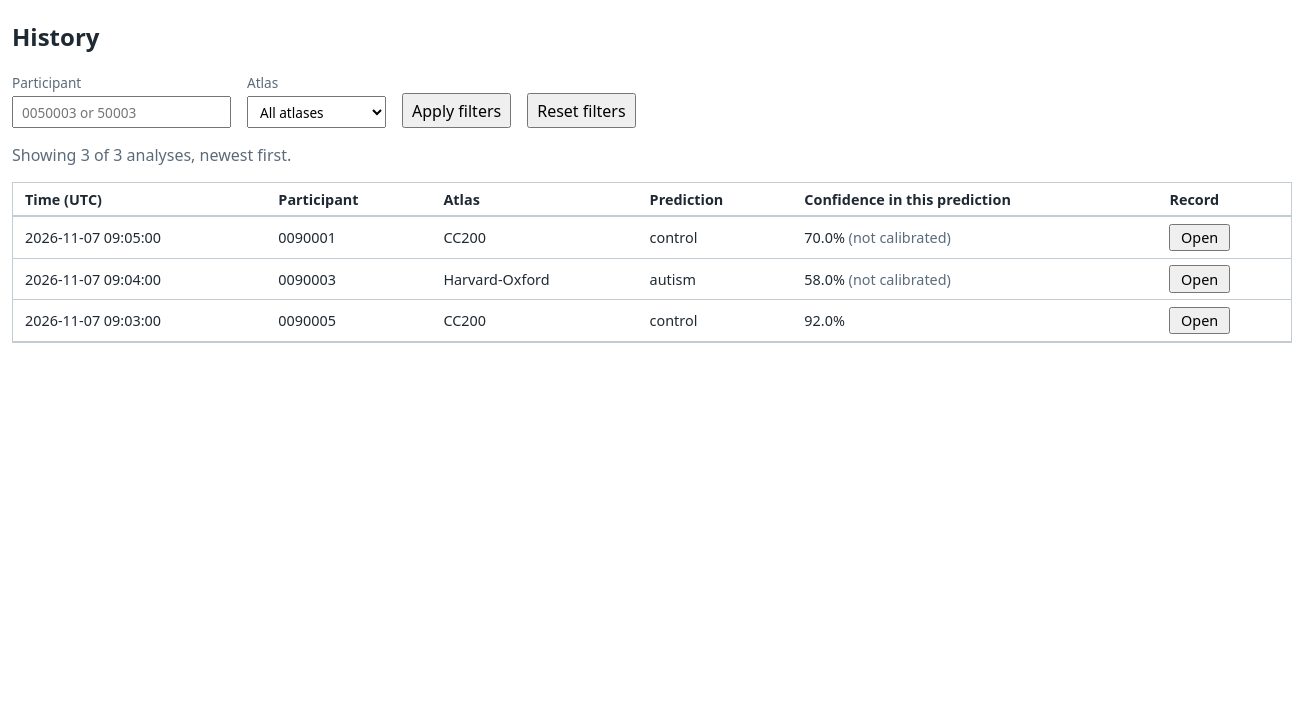
it: History page › shows the git commit and the analysis a record reproduces
Click the button with aria-label "Open analysis c3d4e5f6a1b2": x=1200, y=321 [1170, 307, 1230, 334]
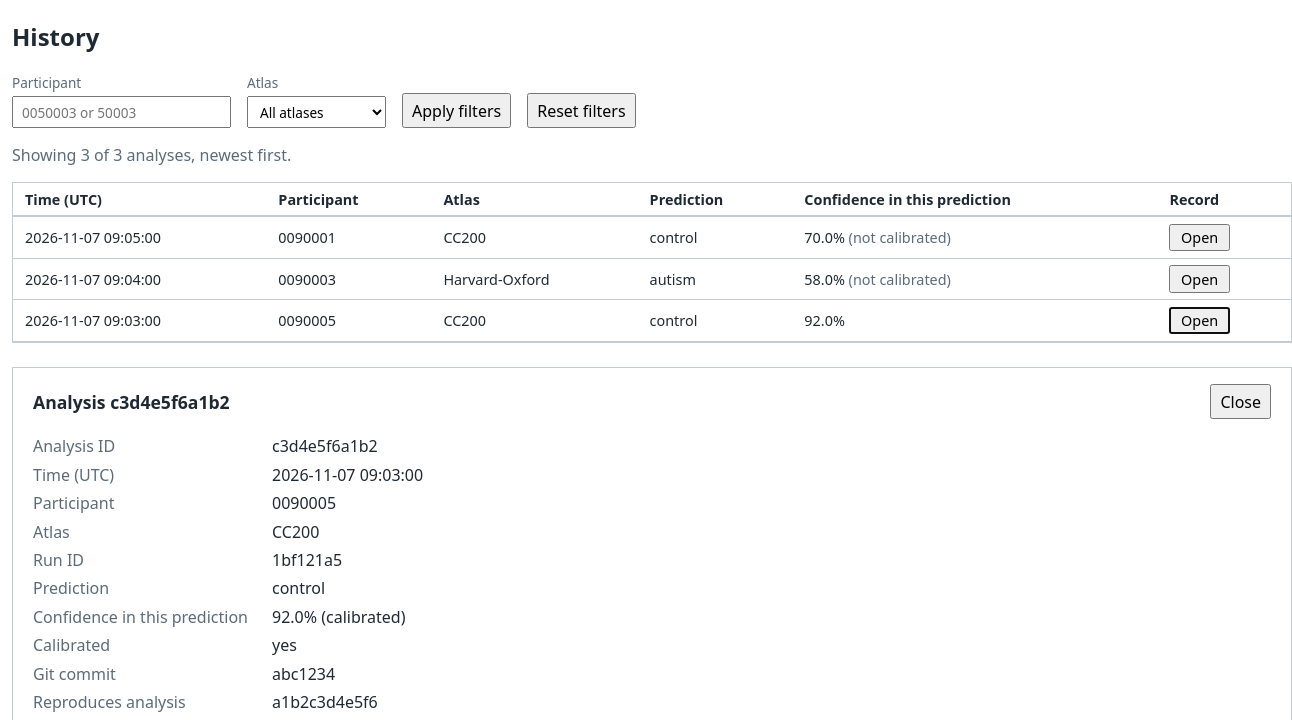
Expected: the text "abc1234" is shown, [272, 663, 335, 685]
Expected: the text "a1b2c3d4e5f6" is shown, [272, 691, 378, 713]
Expected: the text "92.0% (calibrated)" is shown, [272, 606, 406, 628]
